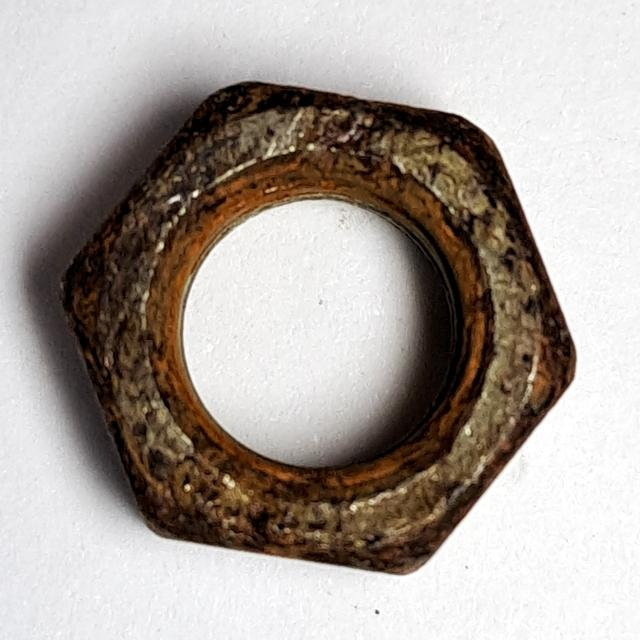Rust: (44, 70, 586, 589)
